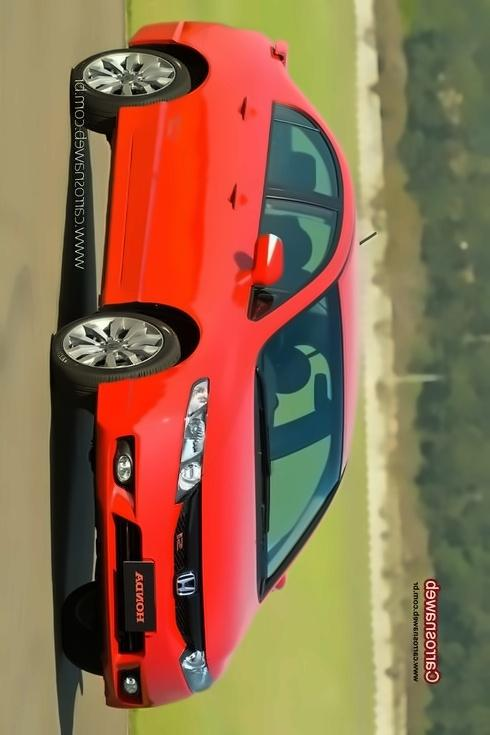Car hood: (194, 360, 262, 691)
Driver-s door - -F-R-: (114, 187, 354, 296)
Fender - -F-R-: (99, 290, 270, 383)
Fender - -R-R-: (119, 29, 275, 109)
Front bumper: (86, 379, 177, 714)
Headlight - -L-: (167, 637, 218, 696)
Headlight - -R-: (166, 372, 220, 510)
Passenger-s door - -R-R-: (117, 90, 350, 186)
Rear bumper: (119, 12, 188, 65)
Side bumper - -R-: (96, 96, 140, 314)
Side mirror - -L-: (263, 563, 294, 601)
Side mirror - -R-: (223, 226, 293, 304)
